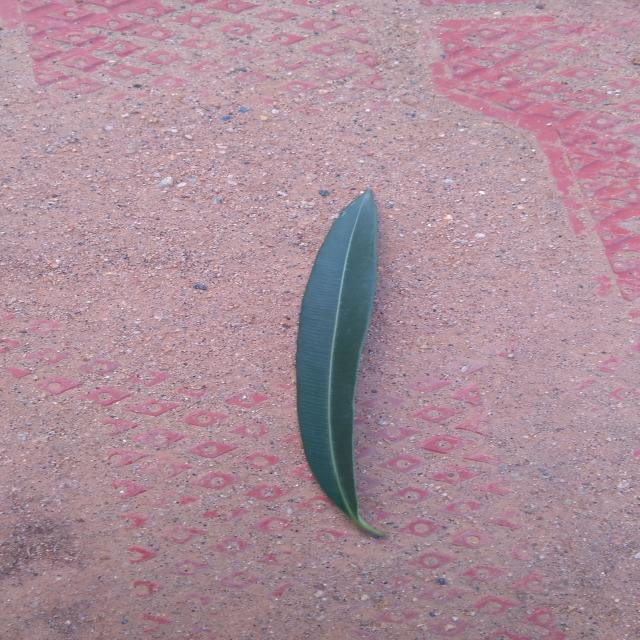ganigale: (296, 190, 384, 538)
